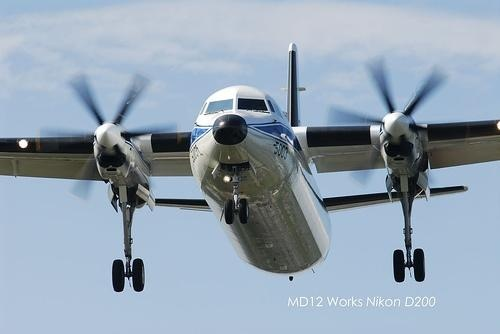aeroplane: (1, 42, 499, 293)
